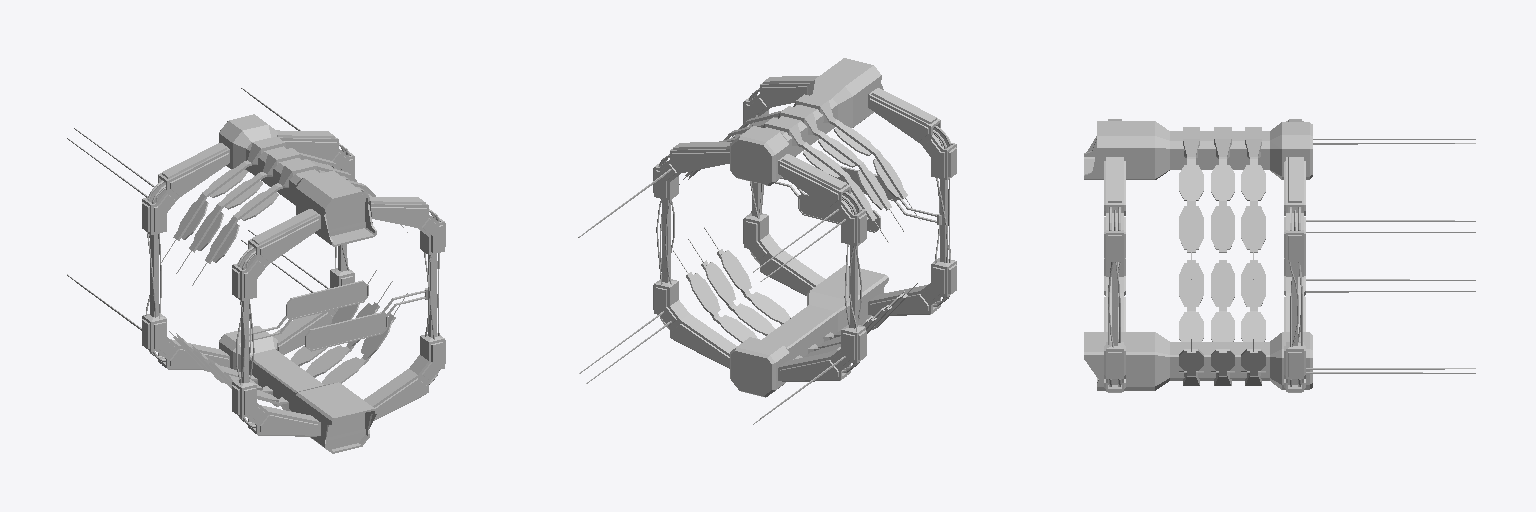
Rendered from Docking Gate GE1.obj.
3 renders of one model, left to right at view 1: azimuth 30°, elevation 25°; view 2: azimuth 150°, elevation 25°; view 3: azimuth 270°, elevation 25°, orthographic.
Visible parts, largest first — view 1: Box002; view 2: Box002; view 3: Box002.
Boxes of the visible parts, box(x1,y1,x2,y2) form: Box002: box(67, 88, 445, 453); Box002: box(578, 58, 956, 424); Box002: box(1084, 119, 1475, 392).
Bounding box in the file's own units: 89.77 × 101 × 141.